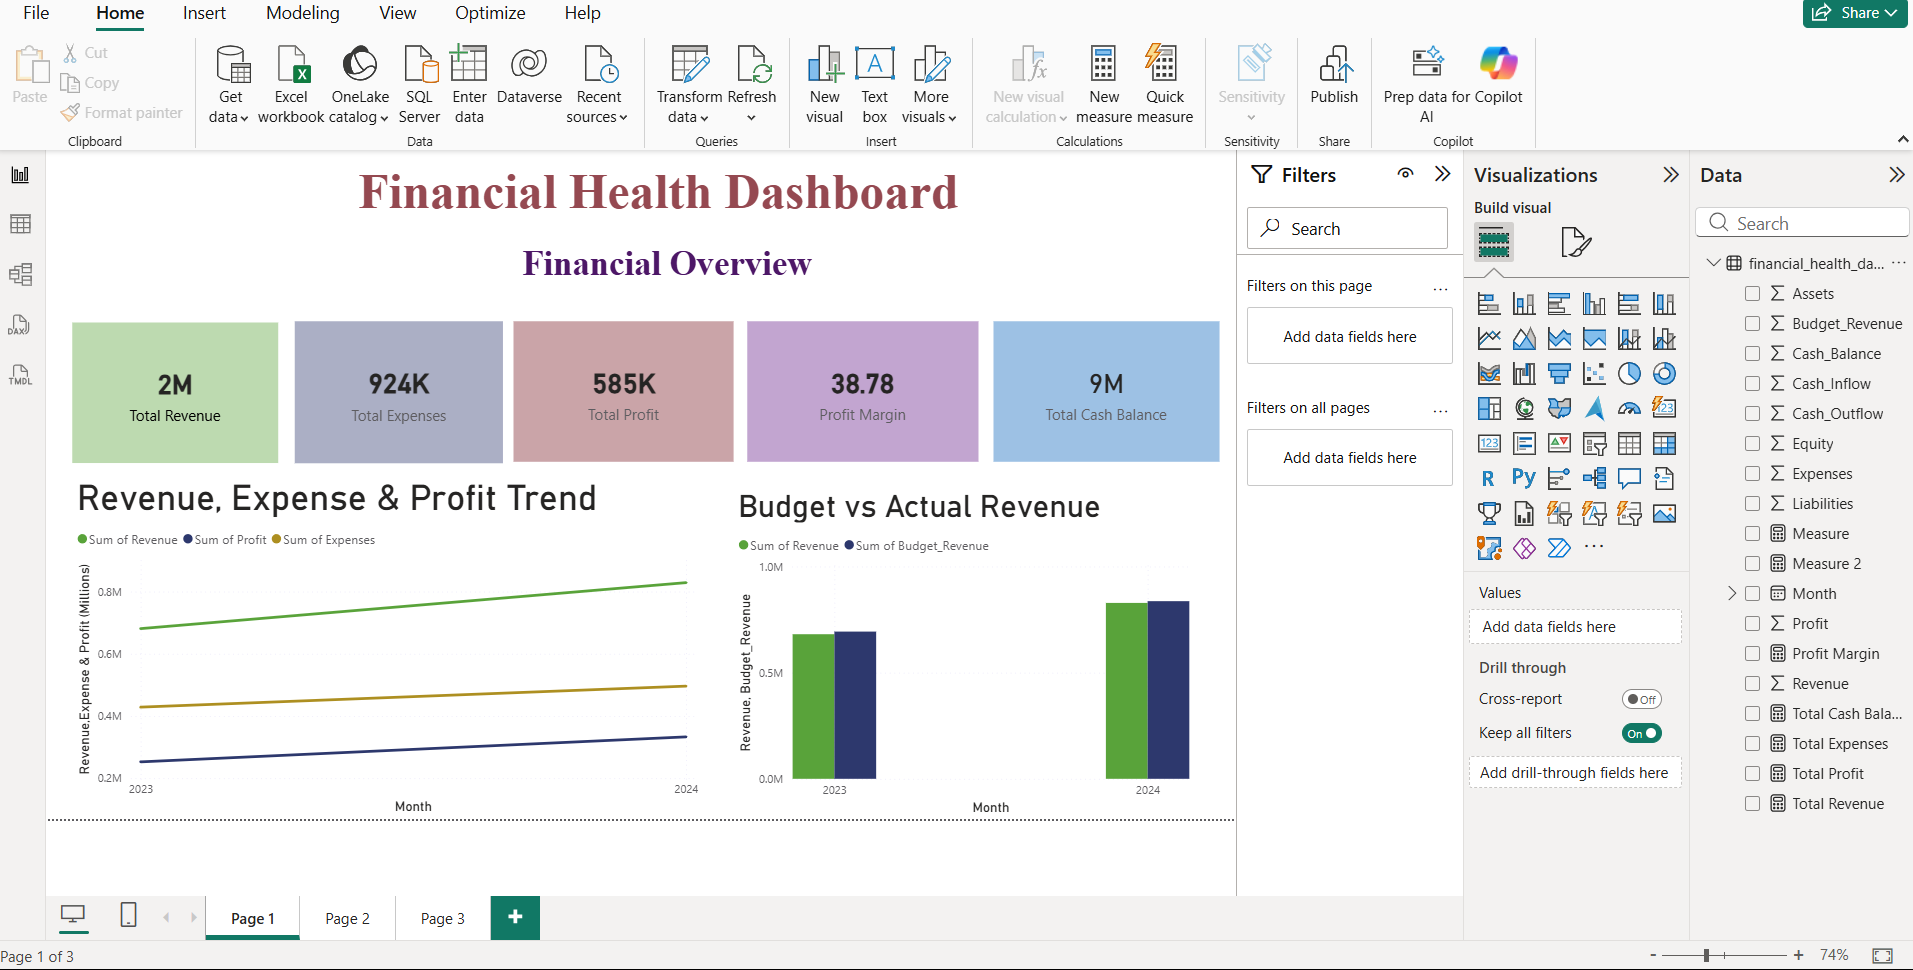

This screenshot's page, from the dashboard's own definition file:
{"tool":"powerbi","page":{"name":"Page 1","canvas":[1280,720],"ordinal":0},"visuals":[{"type":"card","fields":{"Values":["financial_health_dashboard_dataset.Total Revenue"]},"box":[28.6,185.7,221.4,151.4],"z":0},{"type":"card","fields":{"Values":["financial_health_dashboard_dataset.Total Expenses"]},"box":[267.1,184.3,224.3,152.9],"z":1000},{"type":"card","fields":{"Values":["financial_health_dashboard_dataset.Total Profit"]},"box":[502.9,184.3,237.1,151.4],"z":2000},{"type":"card","fields":{"Values":["financial_health_dashboard_dataset.Profit Margin"]},"box":[754.3,184.3,248.6,151.4],"z":3000},{"type":"lineChart","title":"Revenue, Expense & Profit Trend","fields":{"Category":["financial_health_dashboard_dataset.Month.Variation.Date Hierarchy.Year","financial_health_dashboard_dataset.Month.Variation.Date Hierarchy.Quarter","financial_health_dashboard_dataset.Month.Variation.Date Hierarchy.Month","financial_health_dashboard_dataset.Month.Variation.Date Hierarchy.Day"],"Y":["Sum(financial_health_dashboard_dataset.Revenue)","Sum(financial_health_dashboard_dataset.Profit)","Sum(financial_health_dashboard_dataset.Expenses)"]},"box":[28.6,351.4,678.6,368.6],"z":4000},{"type":"clusteredColumnChart","title":"Budget vs Actual Revenue","fields":{"Category":["financial_health_dashboard_dataset.Month.Variation.Date Hierarchy.Year","financial_health_dashboard_dataset.Month.Variation.Date Hierarchy.Quarter","financial_health_dashboard_dataset.Month.Variation.Date Hierarchy.Month","financial_health_dashboard_dataset.Month.Variation.Date Hierarchy.Day"],"Y":["Sum(financial_health_dashboard_dataset.Revenue)","Sum(financial_health_dashboard_dataset.Budget_Revenue)"]},"box":[740,362.9,495.7,357.1],"z":5000},{"type":"card","fields":{"Values":["financial_health_dashboard_dataset.Total Cash Balance"]},"box":[1020,184.3,242.9,151.4],"z":6000},{"type":"textbox","box":[157.1,10,1002.9,85.7],"z":7000},{"type":"textbox","box":[84.3,95.7,1167.1,62.9],"z":7001}]}

Visuals, with their boxes on the page's 1280x720 design canvas (x1, y1, x2, y2). These are canvas units, not pixel positions in the 1913x970 screenshot, which may show the page scaled, cropped or inside an application window:
card - financial_health_dashboard_dataset.Total Revenue: box=[29, 186, 250, 337]
card - financial_health_dashboard_dataset.Total Expenses: box=[267, 184, 491, 337]
card - financial_health_dashboard_dataset.Total Profit: box=[503, 184, 740, 336]
card - financial_health_dashboard_dataset.Profit Margin: box=[754, 184, 1003, 336]
"Revenue, Expense & Profit Trend" lineChart: box=[29, 351, 707, 720]
"Budget vs Actual Revenue" clusteredColumnChart: box=[740, 363, 1236, 720]
card - financial_health_dashboard_dataset.Total Cash Balance: box=[1020, 184, 1263, 336]
textbox: box=[157, 10, 1160, 96]
textbox: box=[84, 96, 1251, 159]
